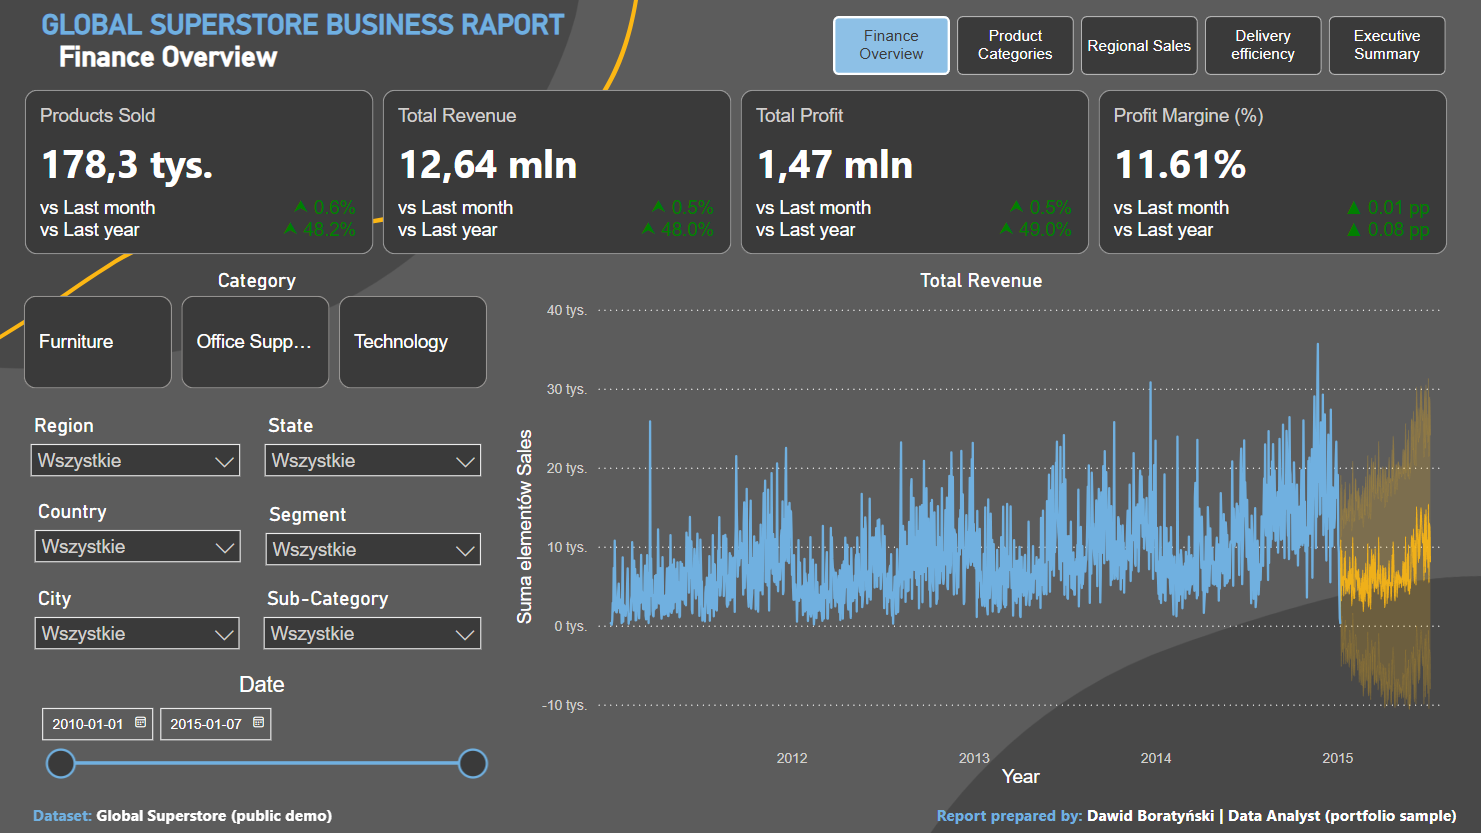

Layout of this report page (visuals, bound fields, positions):
{"tool":"powerbi","page":{"name":"Profit","canvas":[1280,720],"ordinal":0},"visuals":[{"type":"lineChart","title":"Total Income & Products Sold","fields":{"Category":["Sheet1.Ship Date.Variation.Date Hierarchy.Year","Sheet1.Ship Date.Variation.Date Hierarchy.Quarter","Sheet1.Ship Date.Variation.Date Hierarchy.Month","Sheet1.Ship Date.Variation.Date Hierarchy.Day"],"Y":["Sum(Sheet1.Quantity)"],"Y2":["Sum(Sheet1.Profit)"]},"box":[446.6,236.8,811,462.6],"z":0},{"type":"textbox","box":[24.5,19.6,764.4,52.8],"z":1000},{"type":"slicer","title":"Date","fields":{"Values":["Sheet1.Ship Date"]},"box":[18.4,595.1,418.4,104.3],"z":2000},{"type":"cardVisual","fields":{"Data":["Sum(Sheet1.Quantity)","Sum(Sheet1.Sales)","Sum(Sheet1.Profit)","select"]},"box":[18.4,73.6,1239.3,150.9],"z":3000},{"type":"slicer","title":"Country","fields":{"Values":["Sheet1.Country"]},"box":[18.4,447.9,212.3,73.6],"z":4000},{"type":"advancedSlicerVisual","title":"Category","fields":{"Values":["Sheet1.Category"]},"box":[18.4,236.8,412.3,122.7],"z":5000},{"type":"slicer","title":"Country","fields":{"Values":["Sheet1.City"]},"box":[228.2,374.2,202.5,73.6],"z":6000},{"type":"slicer","title":"Country","fields":{"Values":["Sheet1.Region"]},"box":[18.4,374.2,212.3,73.6],"z":7000},{"type":"slicer","title":"Country","fields":{"Values":["Sheet1.Segment"]},"box":[224.5,447.9,206.1,73.6],"z":8000},{"type":"slicer","title":"Country","fields":{"Values":["Sheet1.State"]},"box":[24.5,521.5,200,73.6],"z":9000},{"type":"slicer","title":"Country","fields":{"Values":["Sheet1.Sub-Category"]},"box":[230.7,521.5,200,73.6],"z":10000},{"type":"pageNavigator","box":[719,13.5,533.7,51.5],"z":11000}]}

Visuals, with their boxes in screenshot pixels (x1, y1, x2, y2), scaled from the page's 1280x720 canvas onto the 1481x833 screenshot:
"Total Income & Products Sold" lineChart: [x1=517, y1=274, x2=1455, y2=809]
textbox: [x1=28, y1=23, x2=913, y2=84]
"Date" slicer: [x1=21, y1=688, x2=505, y2=809]
cardVisual - Sum(Sheet1.Quantity) x Sum(Sheet1.Sales): [x1=21, y1=85, x2=1455, y2=260]
"Country" slicer: [x1=21, y1=518, x2=267, y2=603]
"Category" advancedSlicerVisual: [x1=21, y1=274, x2=498, y2=416]
"Country" slicer: [x1=264, y1=433, x2=498, y2=518]
"Country" slicer: [x1=21, y1=433, x2=267, y2=518]
"Country" slicer: [x1=260, y1=518, x2=498, y2=603]
"Country" slicer: [x1=28, y1=603, x2=260, y2=688]
"Country" slicer: [x1=267, y1=603, x2=498, y2=688]
pageNavigator: [x1=832, y1=16, x2=1449, y2=75]
